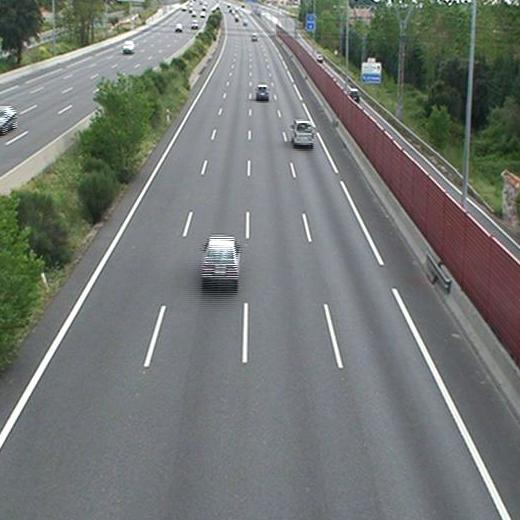car: (200, 237, 239, 279), (292, 121, 315, 145), (255, 85, 269, 99)
